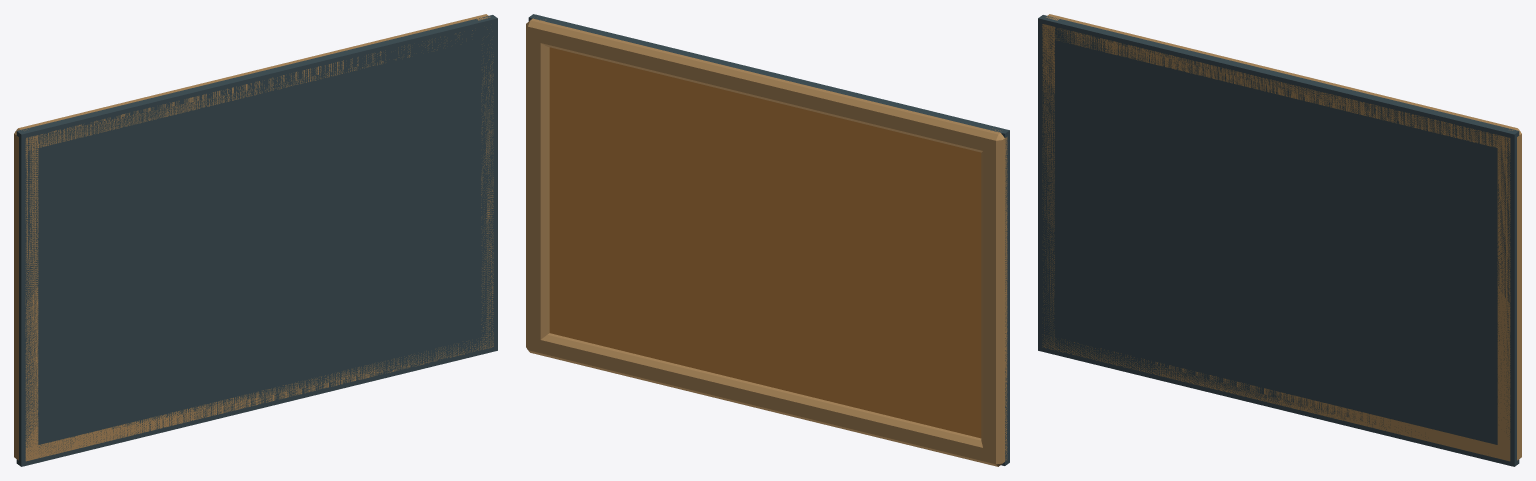
Rendered from sm_env_depot_cork_board.glb.
3 renders of one model, left to right at view 1: azimuth 30°, elevation 25°; view 2: azimuth 150°, elevation 25°; view 3: azimuth 330°, elevation 25°, orthographic.
Parts seen in each view (by area): view 1: Backing, Frame, Frame.002, Frame.003, Frame.001; view 2: CorkSurface, Frame.003, Frame.002, Frame, Frame.001, Backing; view 3: Backing, Frame.003, Frame.001, Frame.002, Frame.
Boxes of the visible parts, x1=… form: Backing: x1=16, y1=15, x2=497, y2=466; Frame: x1=14, y1=125, x2=38, y2=461; Frame.002: x1=25, y1=337, x2=493, y2=460; Frame.003: x1=26, y1=17, x2=475, y2=150; Frame.001: x1=474, y1=14, x2=493, y2=348; CorkSurface: x1=549, y1=47, x2=981, y2=438; Frame.003: x1=538, y1=21, x2=1007, y2=153; Frame.002: x1=528, y1=333, x2=997, y2=463; Frame: x1=981, y1=128, x2=1007, y2=466; Frame.001: x1=526, y1=18, x2=549, y2=355; Backing: x1=528, y1=14, x2=1009, y2=465; Backing: x1=1038, y1=15, x2=1519, y2=466; Frame.003: x1=1055, y1=17, x2=1510, y2=150; Frame.001: x1=1497, y1=125, x2=1521, y2=460; Frame.002: x1=1042, y1=334, x2=1510, y2=461; Frame: x1=1042, y1=14, x2=1061, y2=350.
Size of the model in its own units: 0.9 by 0.6 by 0.032.
